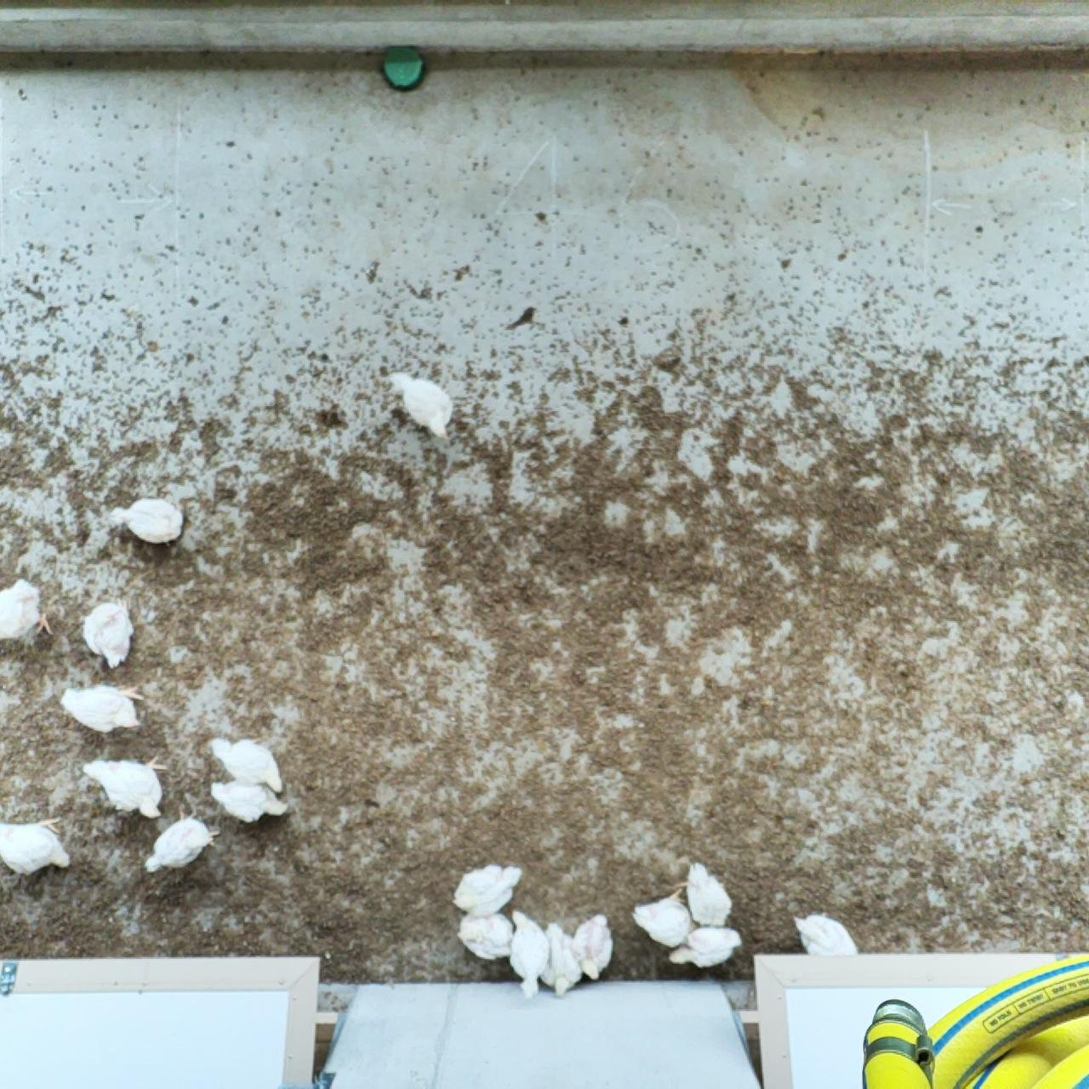chicken: (144, 811, 227, 878), (82, 754, 167, 819), (381, 368, 454, 442), (198, 732, 285, 794), (58, 681, 149, 737), (0, 813, 74, 880), (501, 909, 554, 1001), (792, 910, 862, 976), (450, 861, 529, 915), (535, 918, 587, 999), (79, 600, 137, 671), (0, 574, 53, 651), (630, 889, 698, 948), (105, 496, 184, 546), (680, 857, 734, 929), (207, 775, 287, 823), (666, 925, 748, 969), (569, 911, 616, 982), (453, 912, 518, 960)
